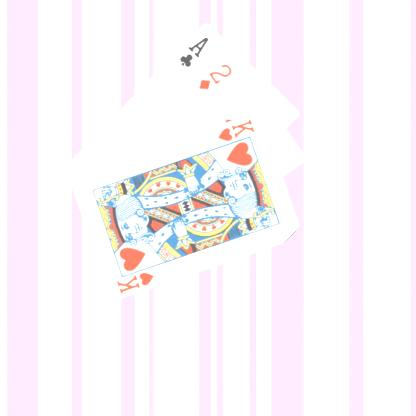2D: (196, 61, 233, 91)
AC: (177, 34, 210, 68)
KH: (215, 116, 256, 143), (114, 269, 155, 294)
